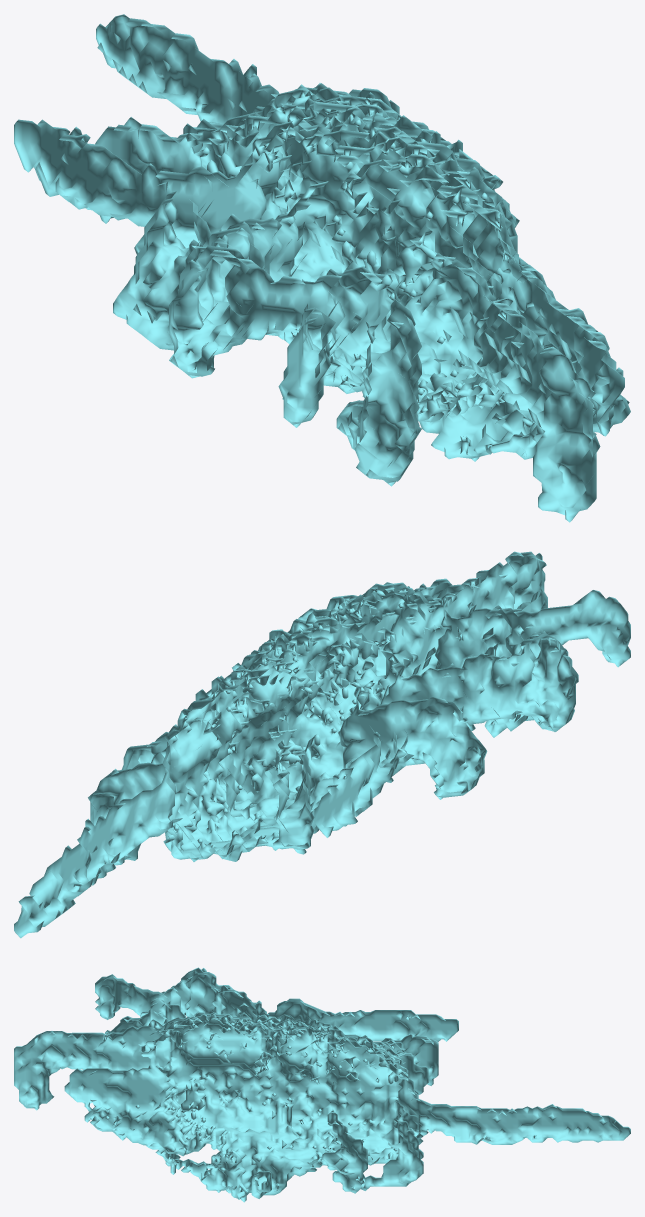
File: osteocyte_39.glb
3 renders of one model, top to bottom at view 1: azimuth 30°, elevation 25°; view 2: azimuth 150°, elevation 25°; view 3: azimuth 270°, elevation 25°, orthographic. The views are drawn at different scales.
Parts seen in each view (by area): view 1: osteocyte_39; view 2: osteocyte_39; view 3: osteocyte_39.
Part boxes in pixels (<box>): osteocyte_39: <box>14,14,630,522</box>; osteocyte_39: <box>14,551,630,938</box>; osteocyte_39: <box>14,967,630,1202</box>.
Size of the model in its own units: 26.48 by 17.81 by 58.74.
